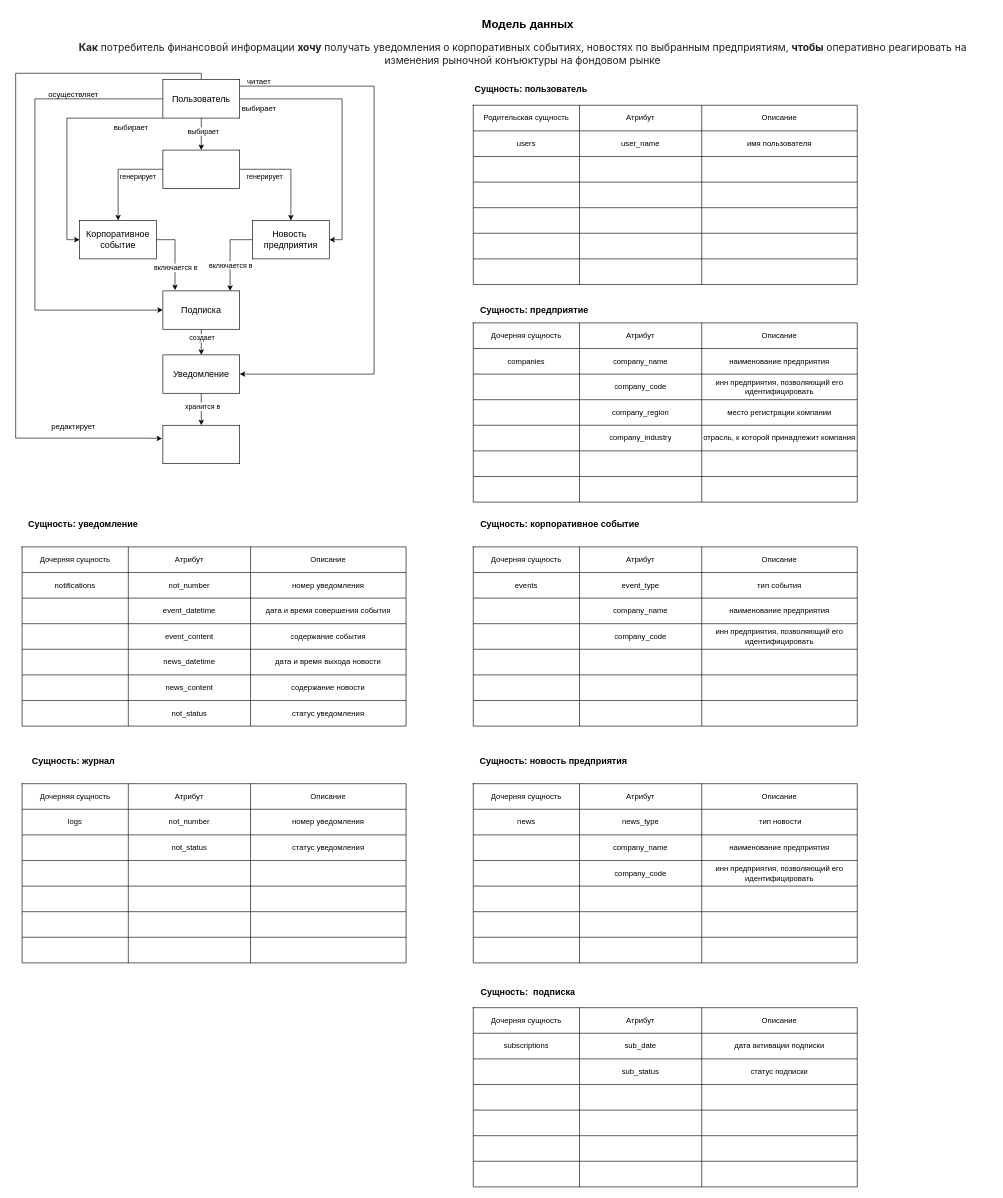
Some shapes in this 1003 by 1198 pixel diagram are drawn without their labels. The centre of each missing label's shape, as x and y in pixels:
Журнал: the point at 201,444
Предприятие: the point at 201,168
